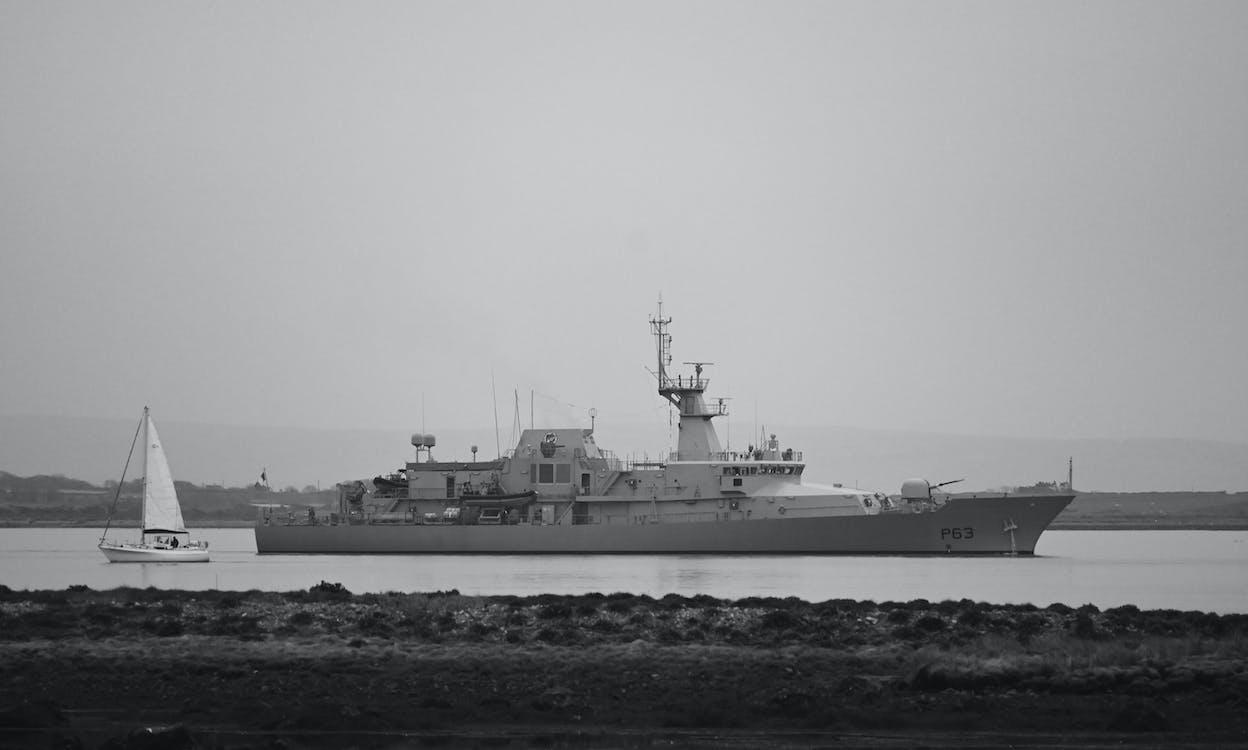MIL_Ship: (252, 287, 1080, 562)
